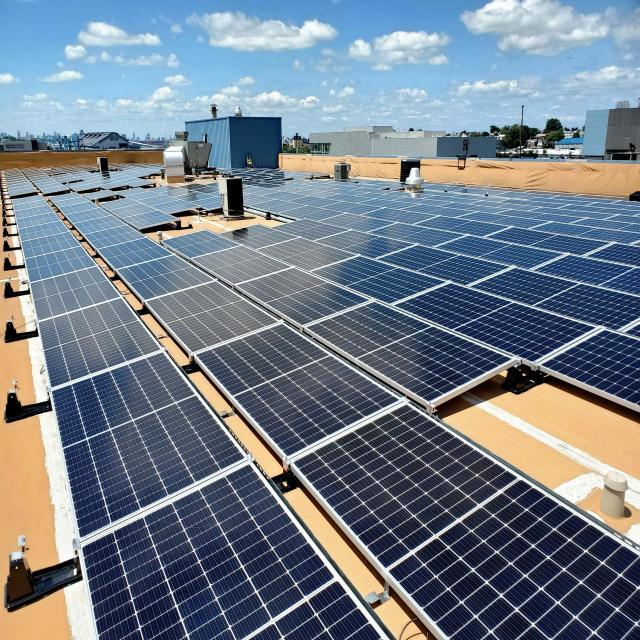no faulty: (82, 458, 394, 640), (390, 476, 638, 640), (296, 400, 518, 560), (65, 393, 248, 536), (250, 353, 400, 458), (48, 348, 198, 449), (356, 324, 522, 412), (543, 325, 640, 440), (199, 315, 323, 403), (42, 319, 165, 388), (313, 297, 433, 363), (463, 304, 597, 359), (178, 295, 286, 353), (29, 258, 121, 322), (540, 279, 638, 339), (392, 282, 506, 332), (43, 294, 140, 347), (279, 278, 379, 328), (488, 261, 584, 308), (158, 276, 242, 328), (198, 244, 295, 286), (356, 266, 448, 305), (271, 236, 361, 270), (440, 246, 507, 286)
